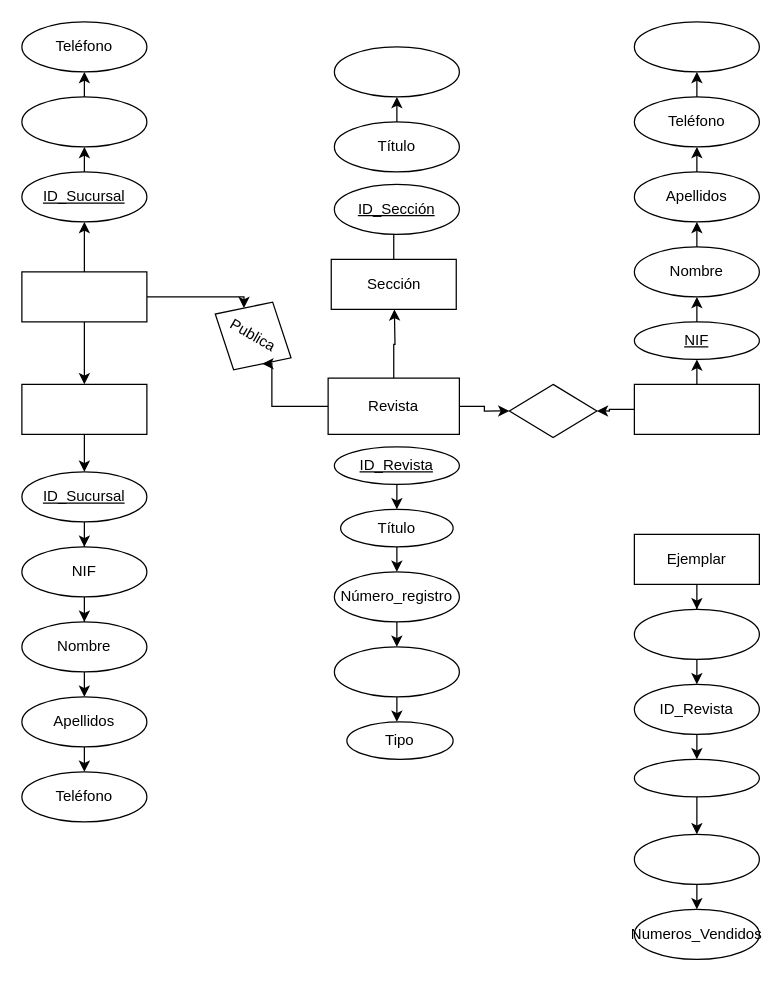
Image size: 784x981. Some labels were removed from this diagram. The shapes that lost their labels are listed below. From the top down, each one's box as (x1, y1, x2, y2) in pixels, then its label:
(633, 21, 759, 72): Especialidad
(333, 46, 459, 97): Extensión
(21, 96, 147, 147): Domicilio
(21, 271, 147, 322): Sucursal
(21, 383, 147, 434): Empleado
(508, 383, 597, 438): Escribir
(633, 383, 759, 434): Periodista
(633, 608, 759, 659): ID_Ejemplar
(333, 646, 459, 697): Periodicidad
(633, 758, 759, 797): Fecha
(633, 833, 759, 884): Número_Páginas
